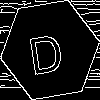D: (25, 25, 66, 75)
